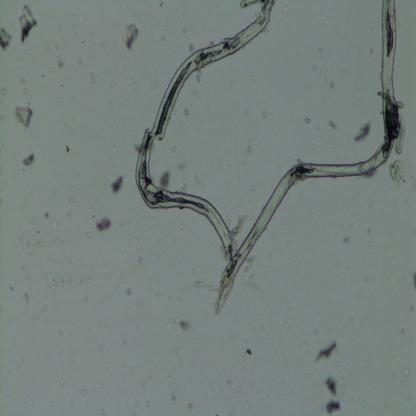Background material: (16, 2, 38, 44), (316, 340, 338, 365), (352, 119, 374, 144), (390, 159, 409, 186), (123, 24, 138, 51), (15, 105, 34, 126), (323, 375, 339, 398), (173, 314, 192, 332), (0, 27, 13, 51), (325, 397, 341, 415), (110, 176, 124, 194), (159, 169, 172, 188), (96, 216, 112, 231), (23, 152, 36, 168), (328, 119, 342, 131), (260, 108, 270, 122), (245, 136, 252, 155), (184, 43, 196, 54), (410, 271, 416, 290), (88, 74, 96, 86), (245, 347, 253, 358), (65, 141, 71, 155), (0, 86, 8, 96), (42, 210, 50, 220), (306, 115, 312, 128), (169, 390, 176, 401), (328, 79, 335, 90), (186, 399, 193, 410), (140, 378, 146, 390), (22, 88, 30, 97), (58, 59, 66, 68), (320, 70, 328, 79), (175, 164, 187, 169), (182, 24, 187, 34), (186, 105, 190, 117)
Cotton: (129, 0, 406, 307)
